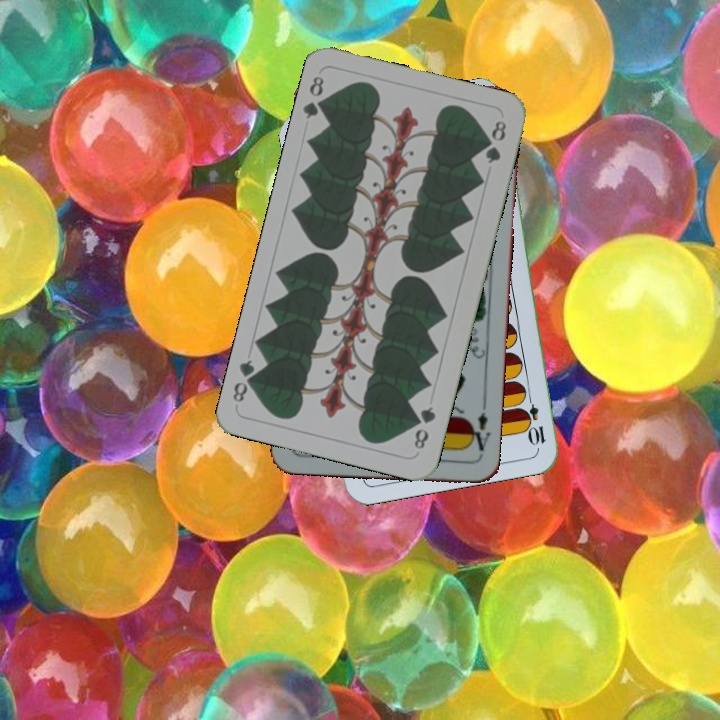E10: (521, 389, 548, 448)
EA: (464, 400, 492, 454)
G8: (299, 72, 331, 122), (410, 402, 439, 452)
